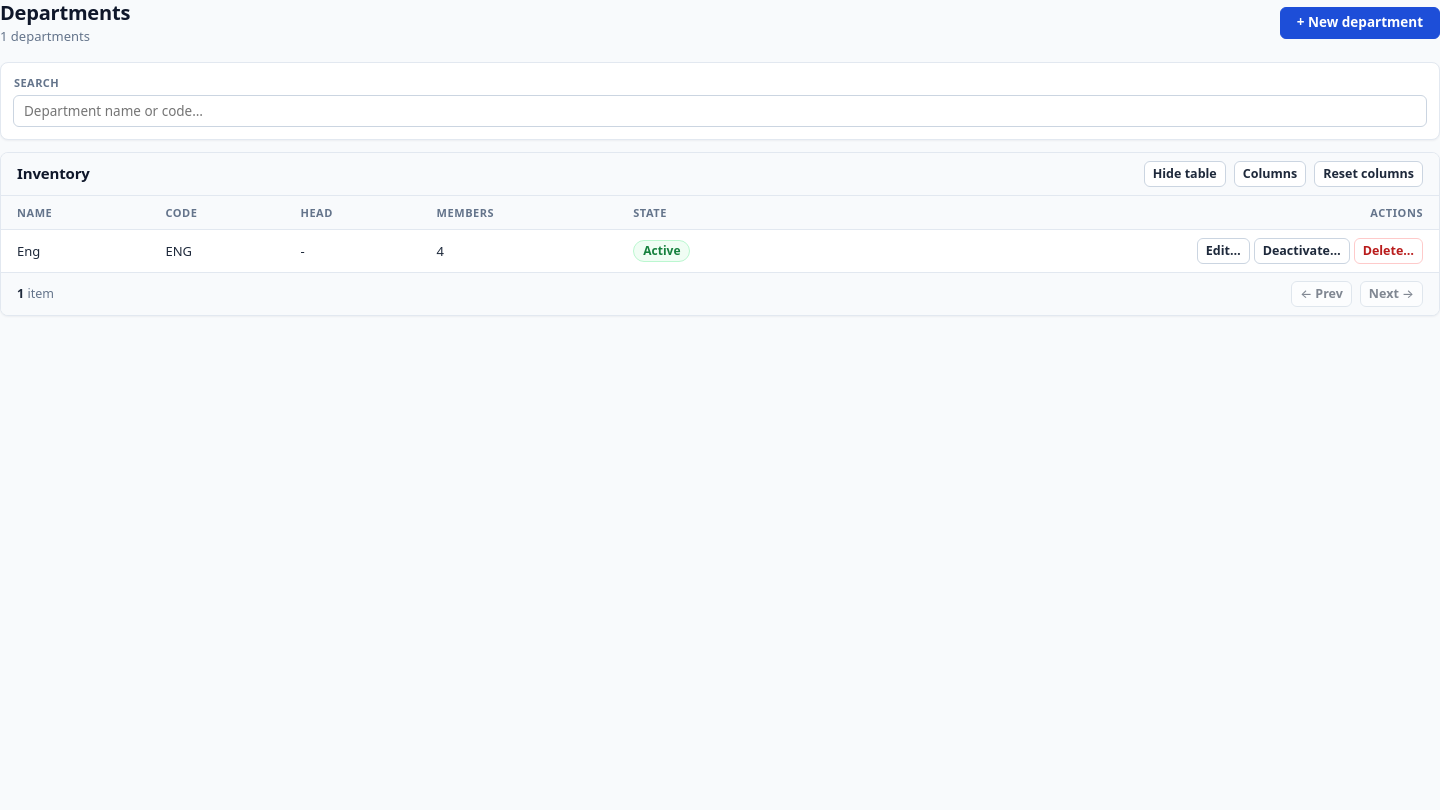
Scenario: Departments page › explains referenced-record conflicts on delete
The image size is (1440, 810).
Expected: the text "Eng" is shown, [1,230,153,272]
Step 1. Click the button "Delete…" → (1388, 251), box [1354,238,1423,264]
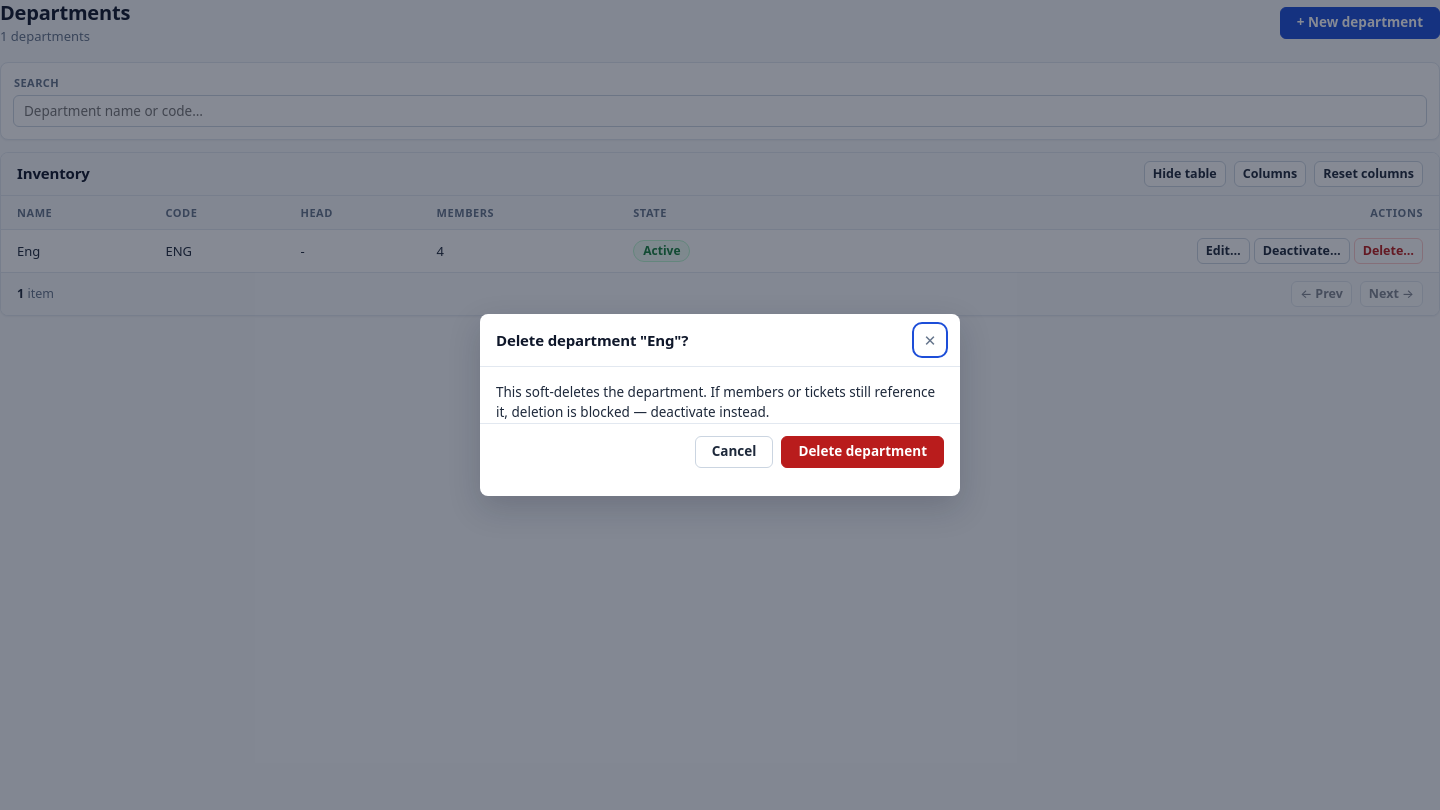
Step 2. Click the button "Delete department" → (863, 452), box [781,436,944,468]
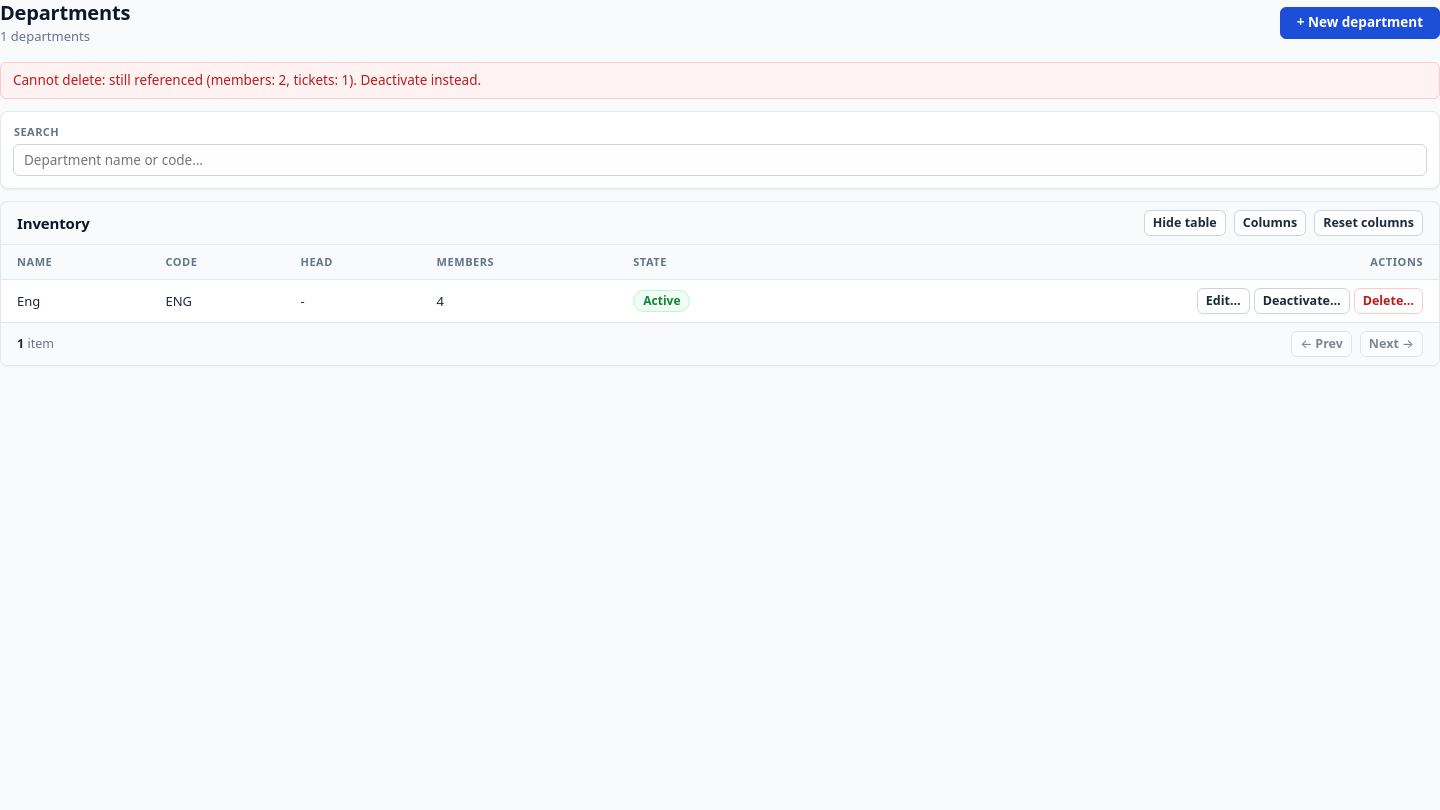
Now the text "Cannot delete: still referenced (members: 2, tickets: 1). Deactivate instead." is shown, box [0,62,1439,99]
